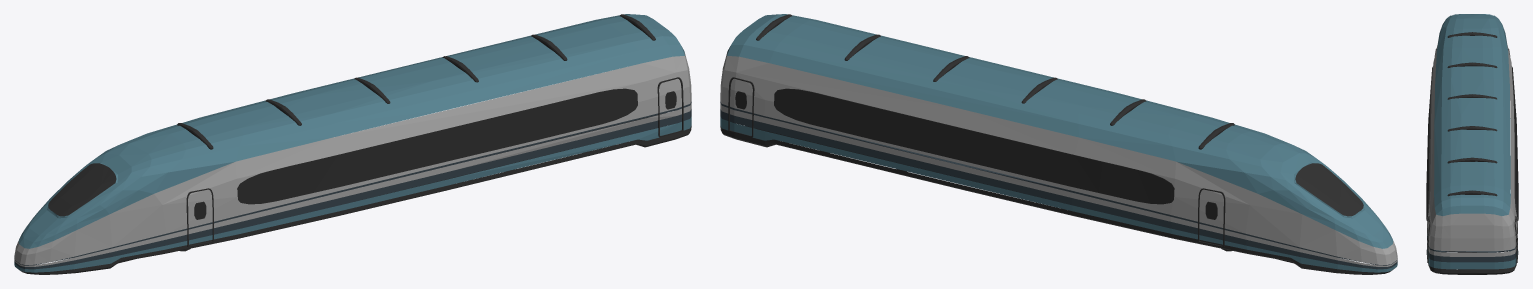
The model's file is high-speed-front.glb.
3 renders of one model, left to right at view 1: azimuth 30°, elevation 25°; view 2: azimuth 150°, elevation 25°; view 3: azimuth 270°, elevation 25°, orthographic. The views are drawn at different scales.
Parts seen in each view (by area): view 1: HighspeedTrain_Front; view 2: HighspeedTrain_Front; view 3: HighspeedTrain_Front.
Part boxes in pixels (left/top/right/bottom): HighspeedTrain_Front: left=14, top=14, right=691, bottom=274; HighspeedTrain_Front: left=720, top=14, right=1397, bottom=274; HighspeedTrain_Front: left=1426, top=14, right=1518, bottom=274.
Bounding box in the file's own units: 12.16 × 1.9 × 2.03.
1 material, 1 textured.
